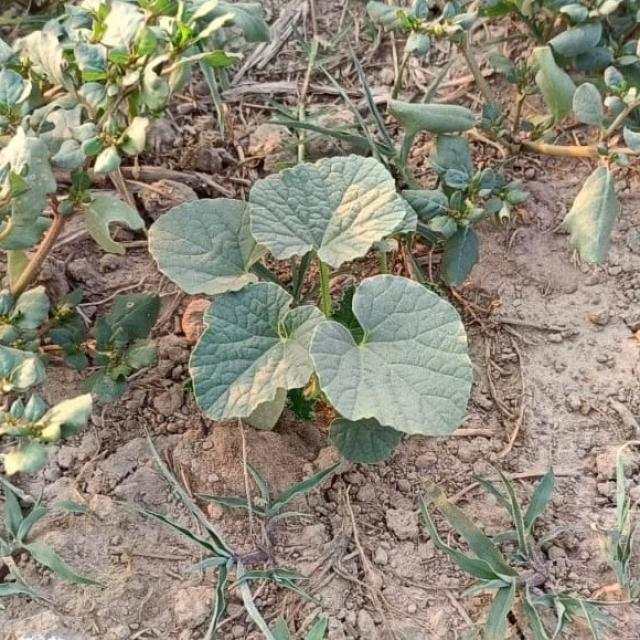plant: (149, 155, 472, 461)
